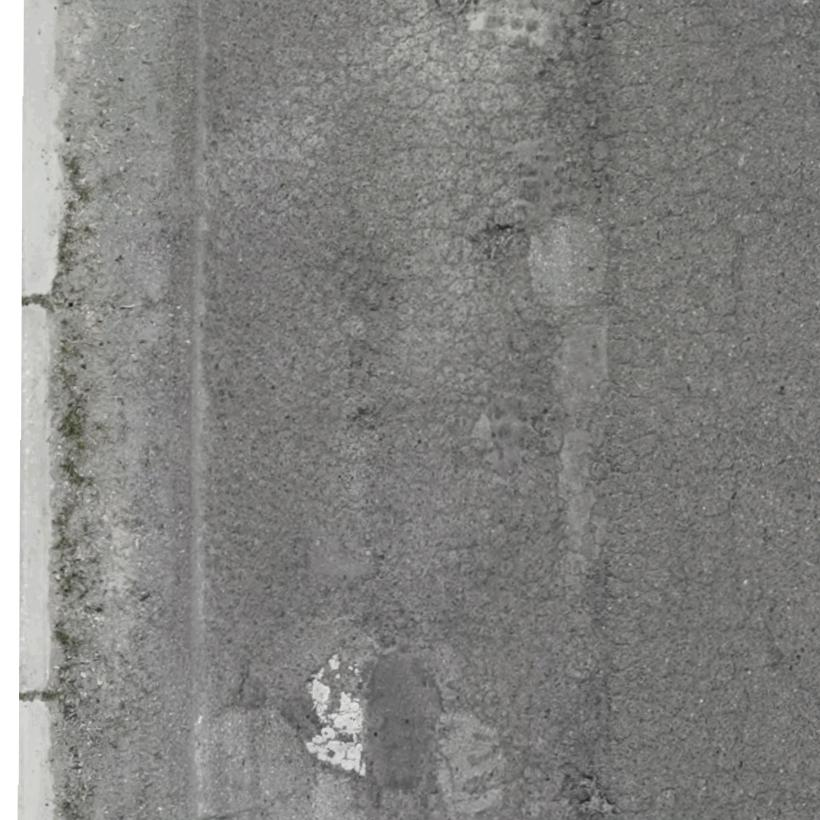PARCHE: (363, 654, 439, 804)
PIEL DE COCODRILO: (205, 0, 819, 819)
